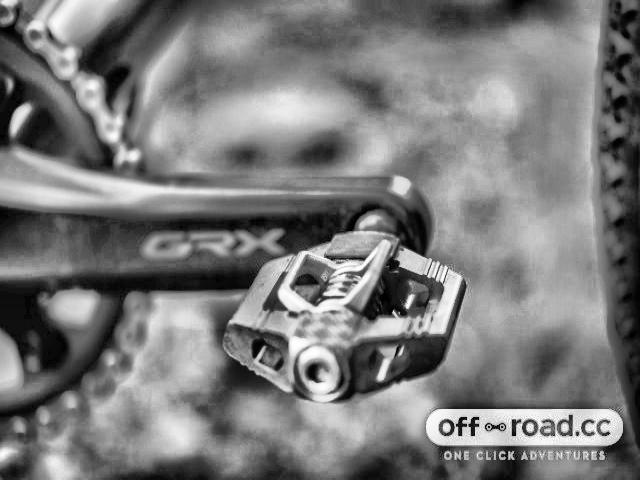cranks_set: (0, 0, 431, 439)
pedal: (222, 224, 468, 409)
